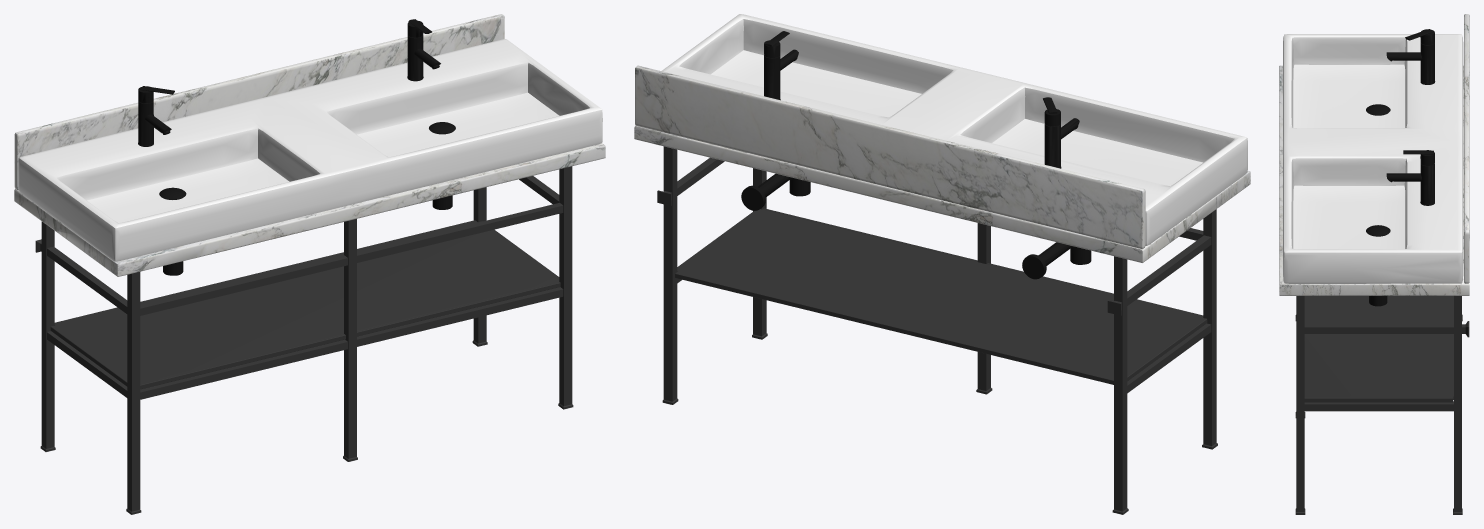
File: bathroom furniture.FBX
3 views of the same model, side by side, from view 1: azimuth 30°, elevation 25°; view 2: azimuth 150°, elevation 25°; view 3: azimuth 270°, elevation 25° (orthographic). The views are drawn at different scales.
Parts seen in each view (by area): view 1: bathroom furniture, sink; view 2: bathroom furniture, sink; view 3: sink, bathroom furniture.
Part boxes in pixels (bbox=[...]): bathroom furniture: bbox=[14, 14, 605, 514]; sink: bbox=[18, 19, 602, 275]; bathroom furniture: bbox=[634, 65, 1250, 514]; sink: bbox=[661, 14, 1247, 279]; sink: bbox=[1283, 29, 1463, 306]; bathroom furniture: bbox=[1279, 14, 1469, 514].
Bounding box in the file's own units: 179 × 124 × 65.61.
Materials: 4 (2 with a texture image).
